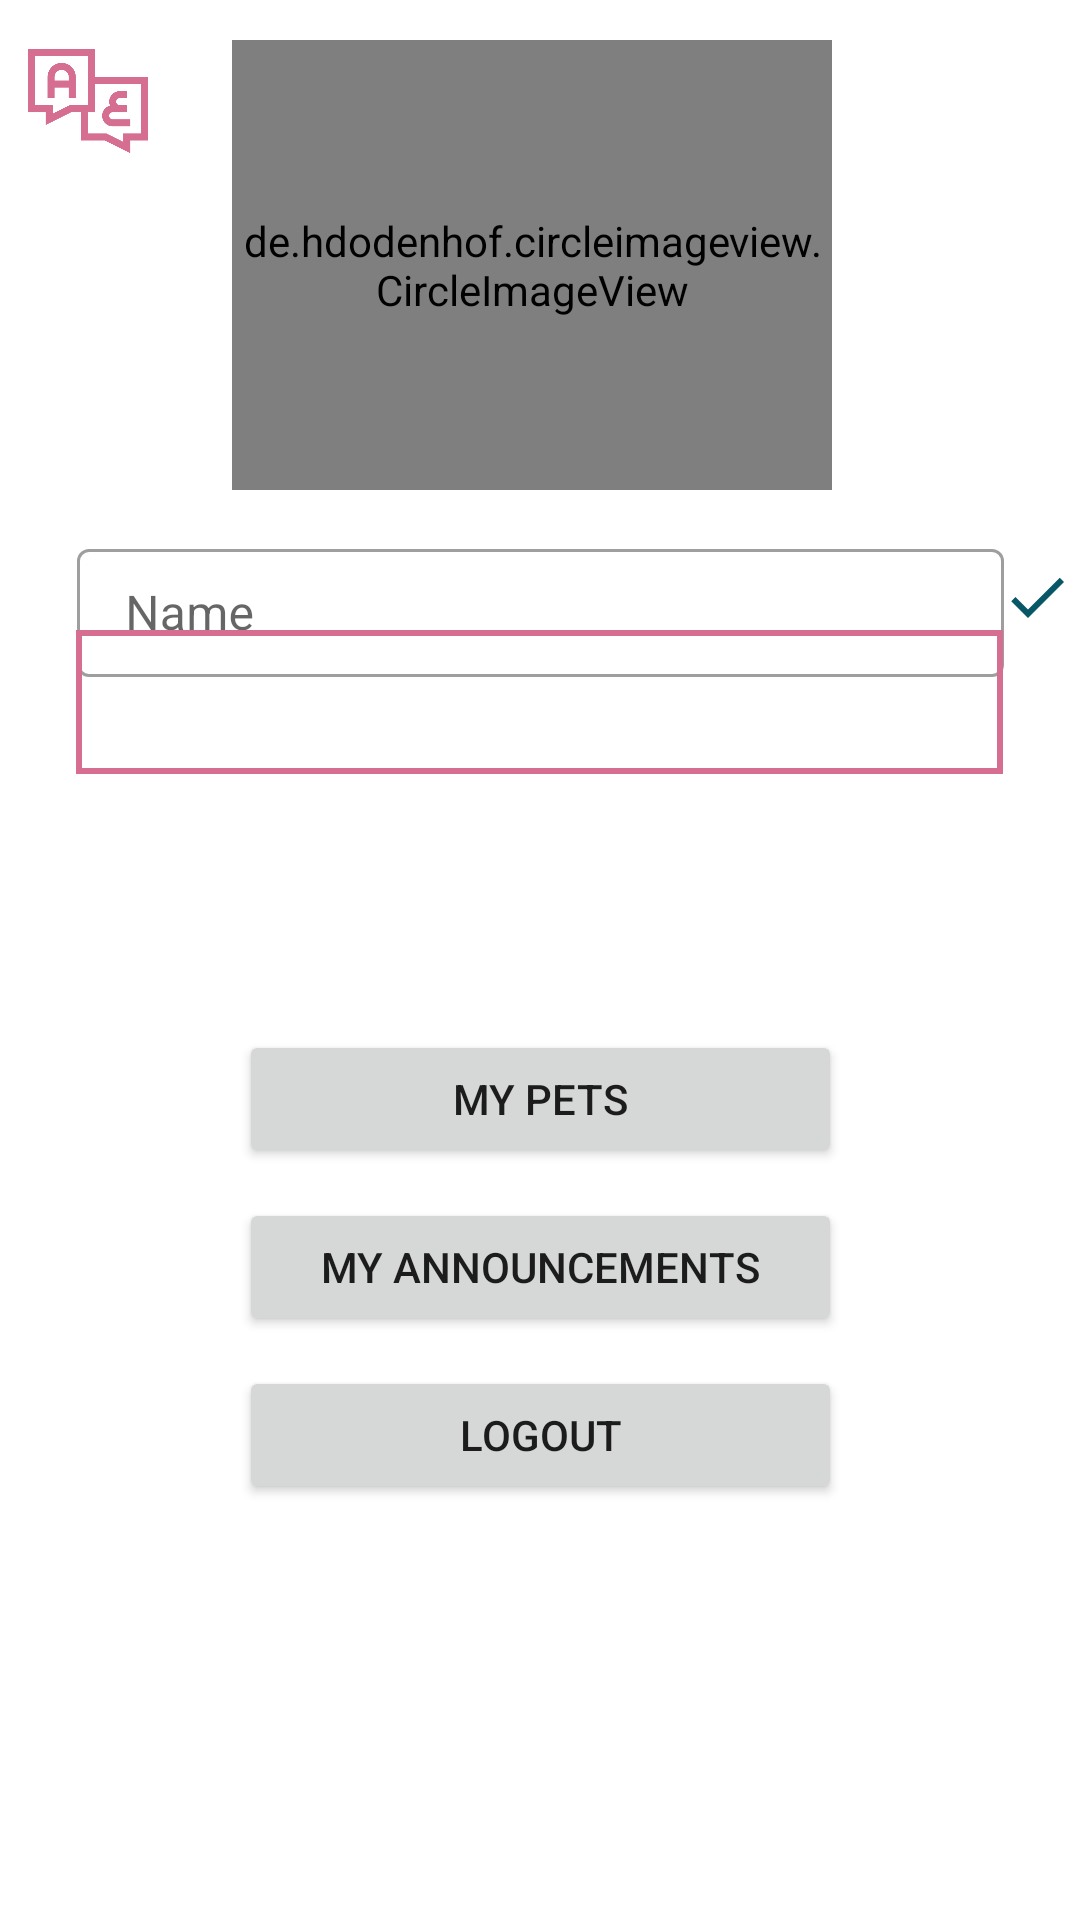

Where to tap for icons on this 1080px×1920px app screen, as point (x, y):
translation: point (88, 101)
